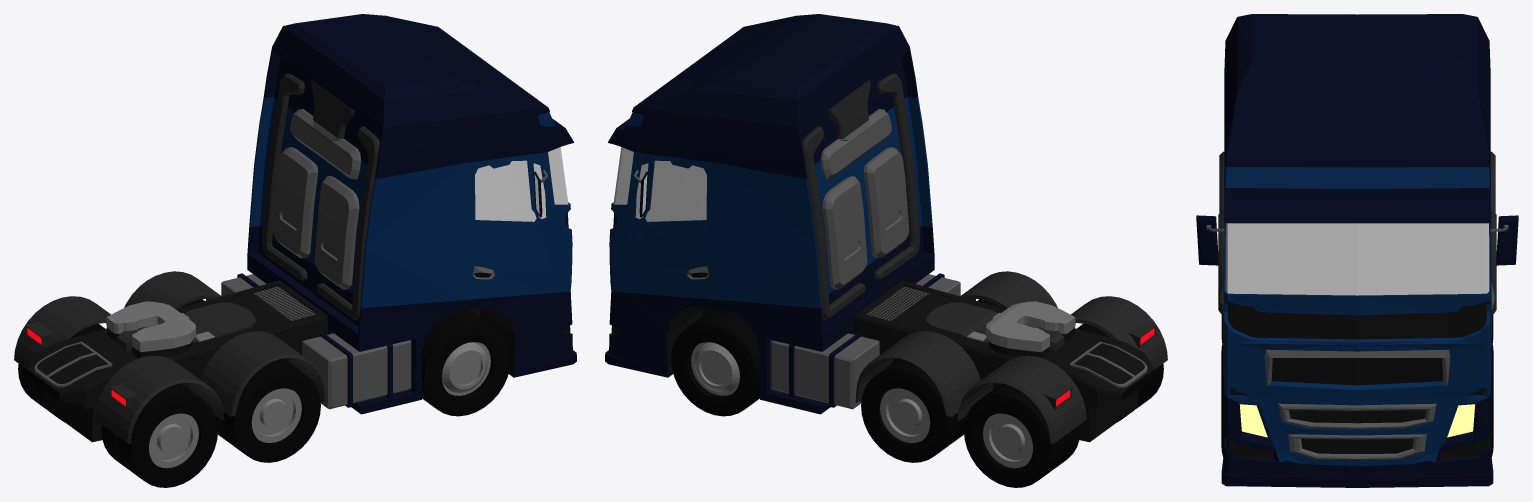
Rendered from onlytruck.fbx.
3 views of the same model, side by side, from view 1: azimuth 30°, elevation 25°; view 2: azimuth 150°, elevation 25°; view 3: azimuth 270°, elevation 25° (orthographic). The views are drawn at different scales.
Parts seen in each view (by area): view 1: Truck; view 2: Truck; view 3: Truck.
Part boxes in pixels (<box>): Truck: <box>14,14,576,487</box>; Truck: <box>605,14,1167,487</box>; Truck: <box>1196,14,1518,487</box>.
Size of the model in its own units: 302 by 201 by 148.
